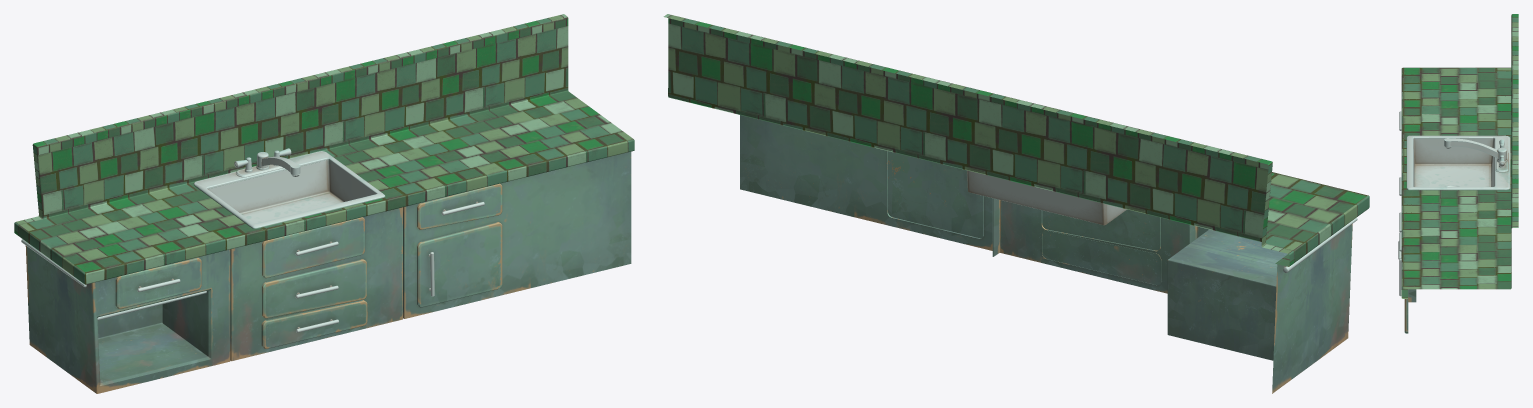
File: SM_Kitchen_Countertop_B.fbx
3 renders of one model, left to right at view 1: azimuth 30°, elevation 25°; view 2: azimuth 150°, elevation 25°; view 3: azimuth 270°, elevation 25°, orthographic. The views are drawn at different scales.
Parts seen in each view (by area): view 1: SM_Kitchen_Countertop_B_LOD0; view 2: SM_Kitchen_Countertop_B_LOD0; view 3: SM_Kitchen_Countertop_B_LOD0.
Part boxes in pixels (<box>): SM_Kitchen_Countertop_B_LOD0: <box>14,14,634,393</box>; SM_Kitchen_Countertop_B_LOD0: <box>663,14,1369,393</box>; SM_Kitchen_Countertop_B_LOD0: <box>1398,14,1518,333</box>.
Bounding box in the file's own units: 472 × 108 × 165.
Materials: 2 (2 with a texture image).
